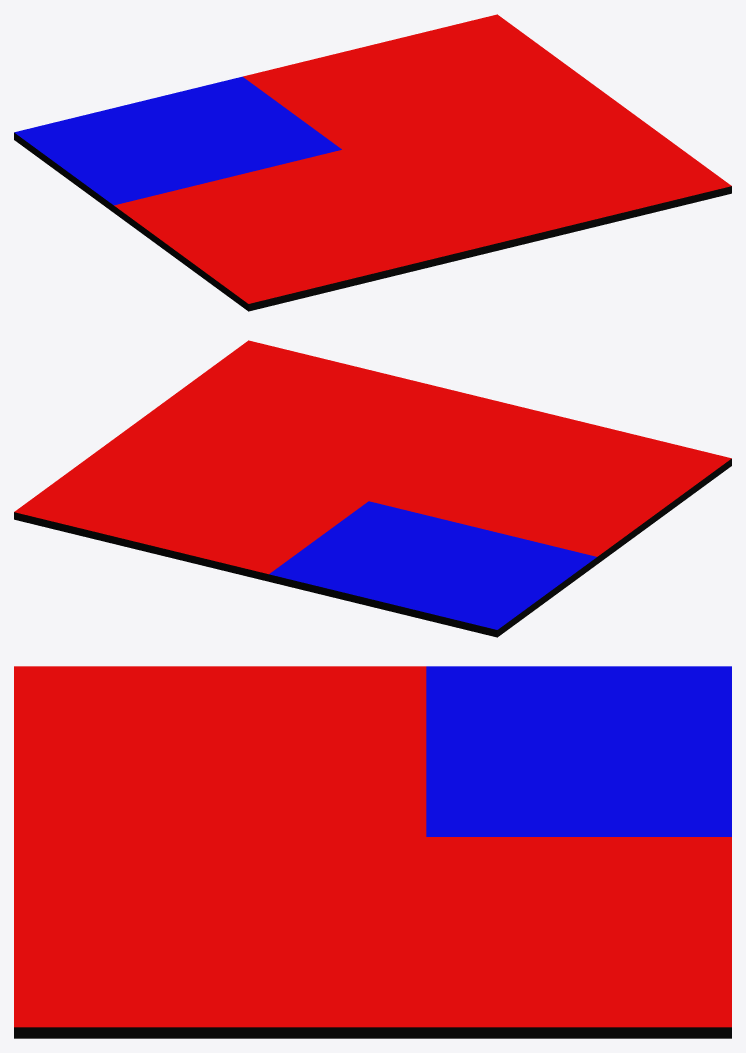
3 views of the same model, one above another, from view 1: azimuth 30°, elevation 25°; view 2: azimuth 150°, elevation 25°; view 3: azimuth 270°, elevation 25° (orthographic). The views are drawn at different scales.
Visible parts, largest first — view 1: Prime_Base; view 2: Prime_Base; view 3: Prime_Base.
Part boxes in pixels (box(x1,y1,x2,y2)): Prime_Base: box(14, 14, 731, 311); Prime_Base: box(14, 340, 731, 637); Prime_Base: box(14, 666, 731, 1038).
Size of the model in its own units: 23.99 by 0.3564 by 20.16.
